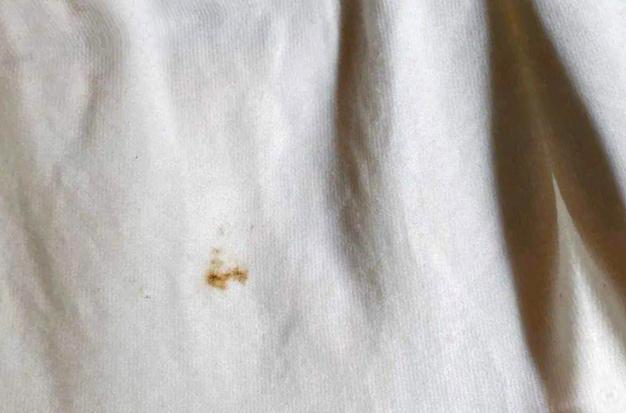stain: (203, 243, 254, 293)
